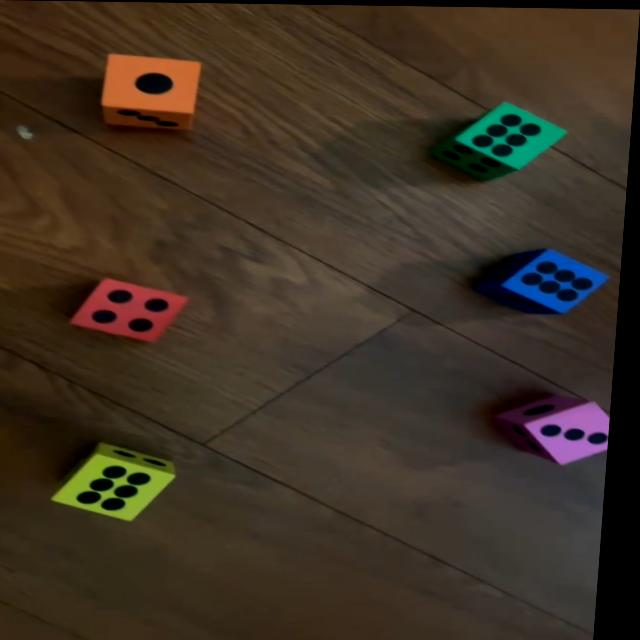cube: (430, 99, 571, 181), (479, 245, 617, 312), (75, 278, 196, 341)
